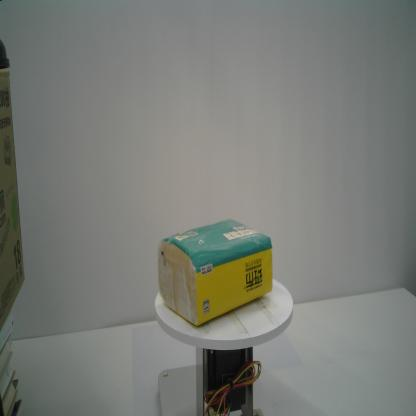Tissue: (157, 216, 274, 328)
